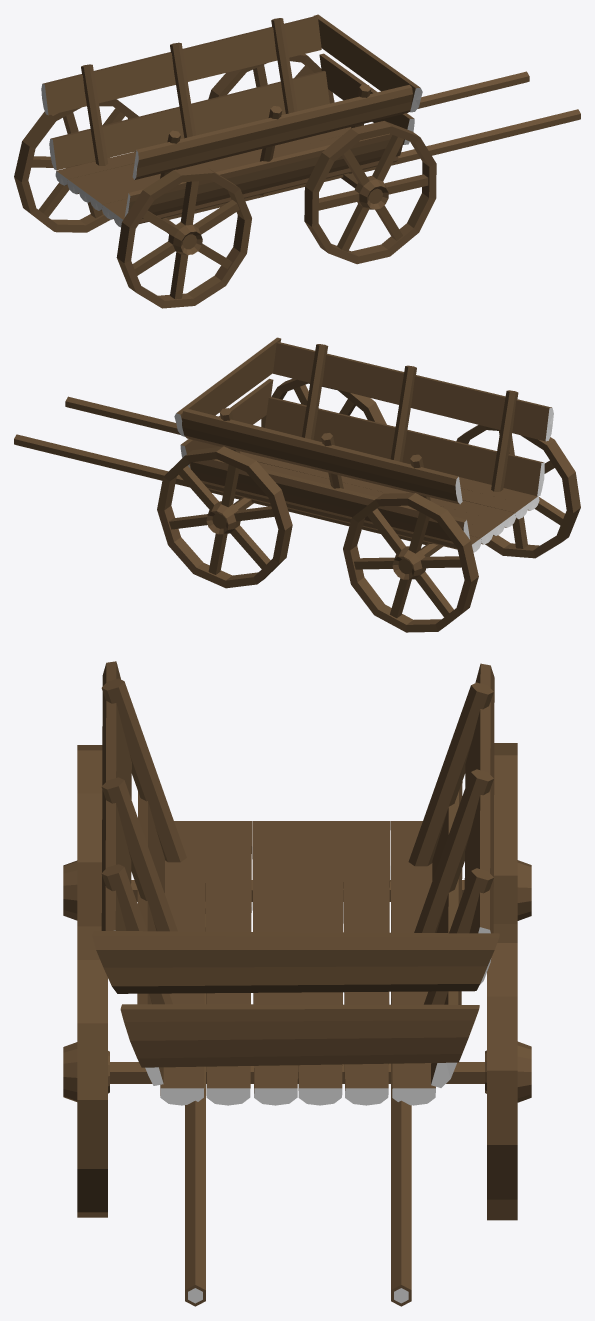
The model's file is SM_Cart.fbx.
3 views of the same model, one above another, from view 1: azimuth 30°, elevation 25°; view 2: azimuth 150°, elevation 25°; view 3: azimuth 270°, elevation 25° (orthographic). The views are drawn at different scales.
Parts seen in each view (by area): view 1: SM_Cart; view 2: SM_Cart; view 3: SM_Cart.
Boxes of the visible parts, left/top/right/bottom form: SM_Cart: left=14, top=14, right=580, bottom=308; SM_Cart: left=14, top=337, right=580, bottom=632; SM_Cart: left=63, top=661, right=531, bottom=1306.
Size of the model in its own units: 380 by 127 by 159.
